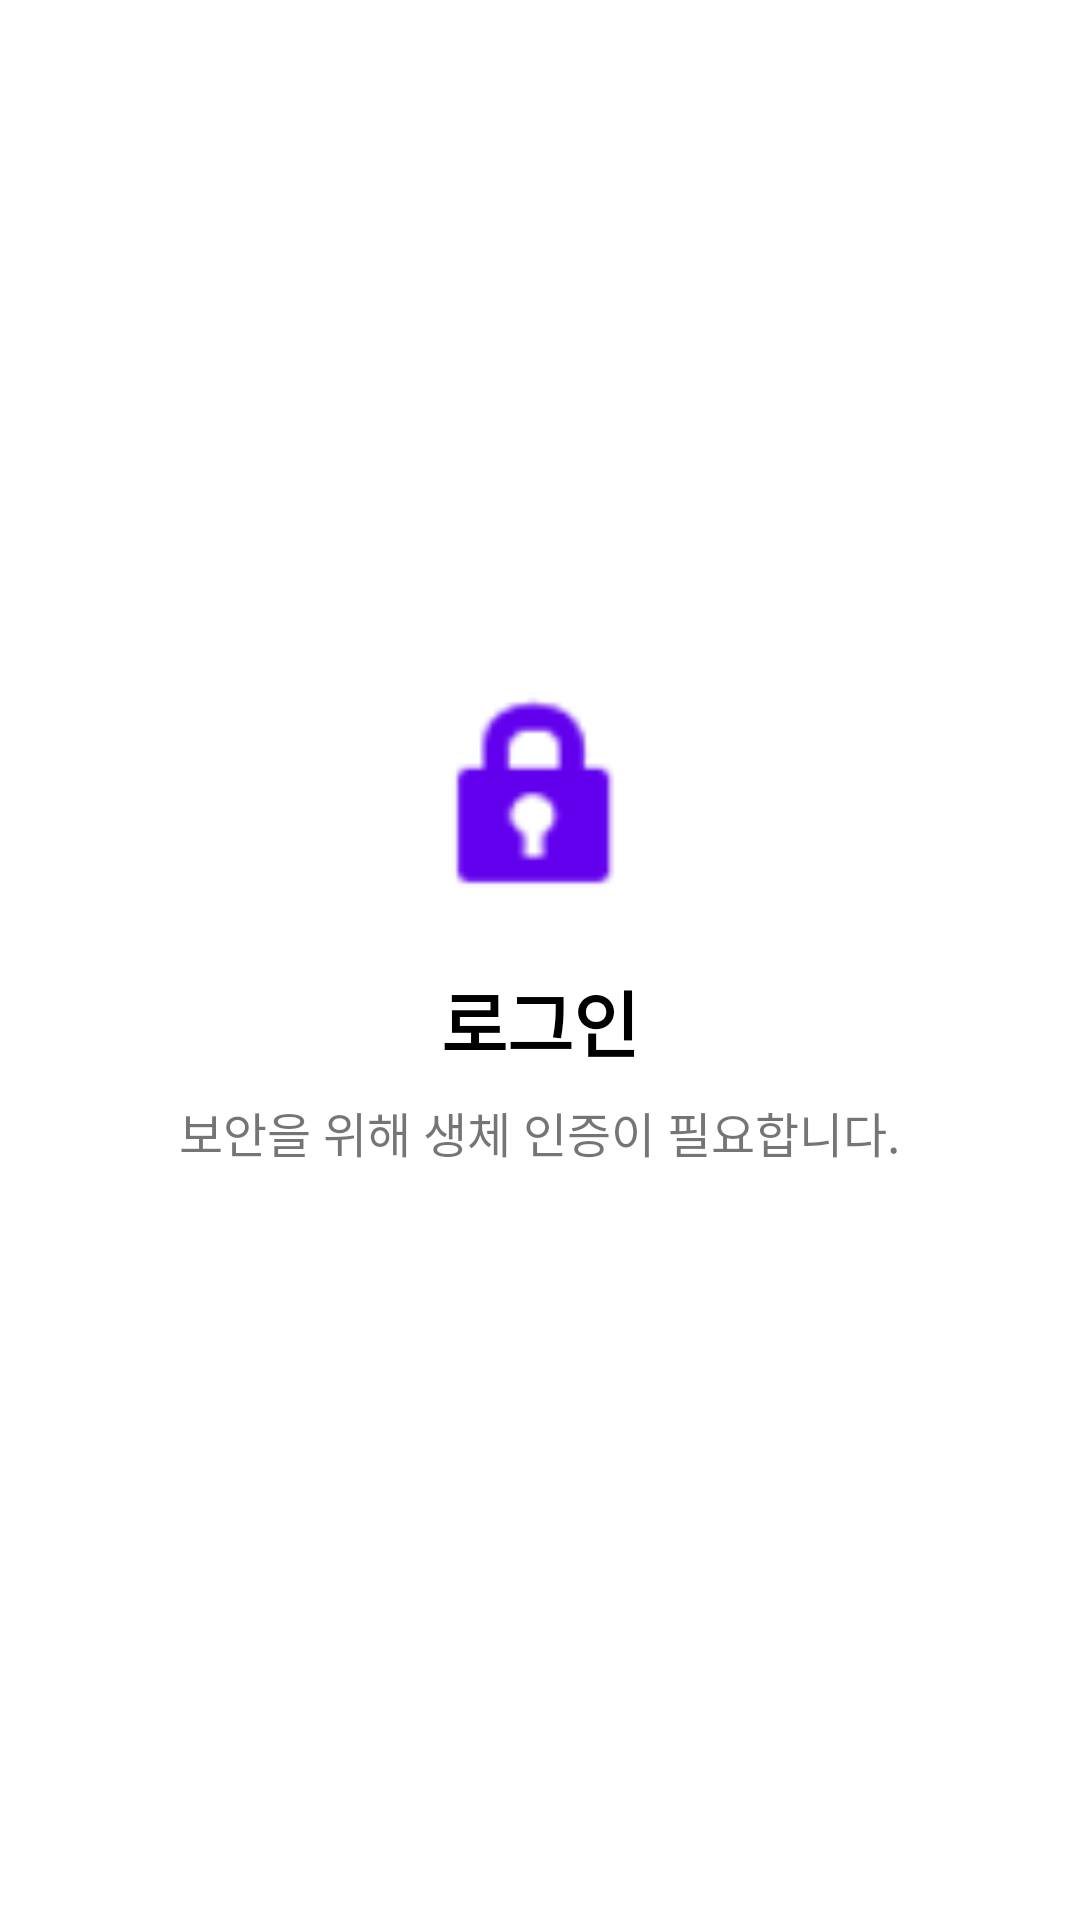

Named icons in this screenshot (1080*1920) and their centers, (x=x, y=y):
lock idle: (x=535, y=791)
